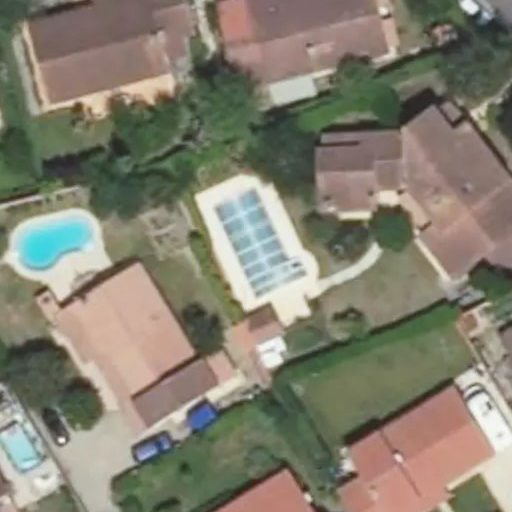pool: (213, 205, 297, 278)
